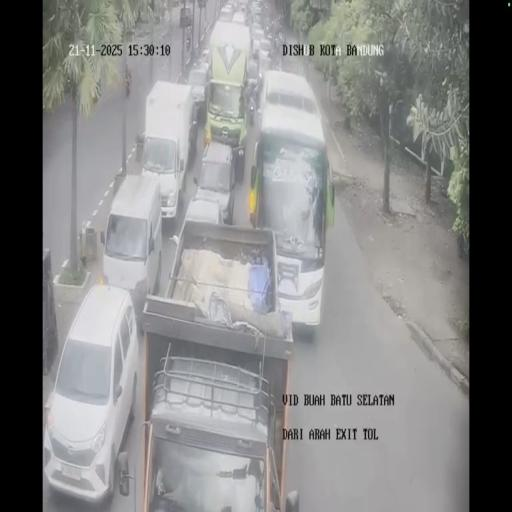car: (42, 284, 138, 503), (101, 173, 163, 328), (189, 140, 238, 228), (186, 60, 212, 124), (257, 40, 272, 71), (248, 0, 264, 26), (221, 0, 235, 18), (232, 9, 246, 26), (200, 47, 210, 67), (238, 0, 247, 13)
motorcycle: (270, 46, 283, 72)
truck: (139, 220, 294, 510), (249, 71, 331, 329), (140, 82, 198, 222), (205, 10, 253, 154)
